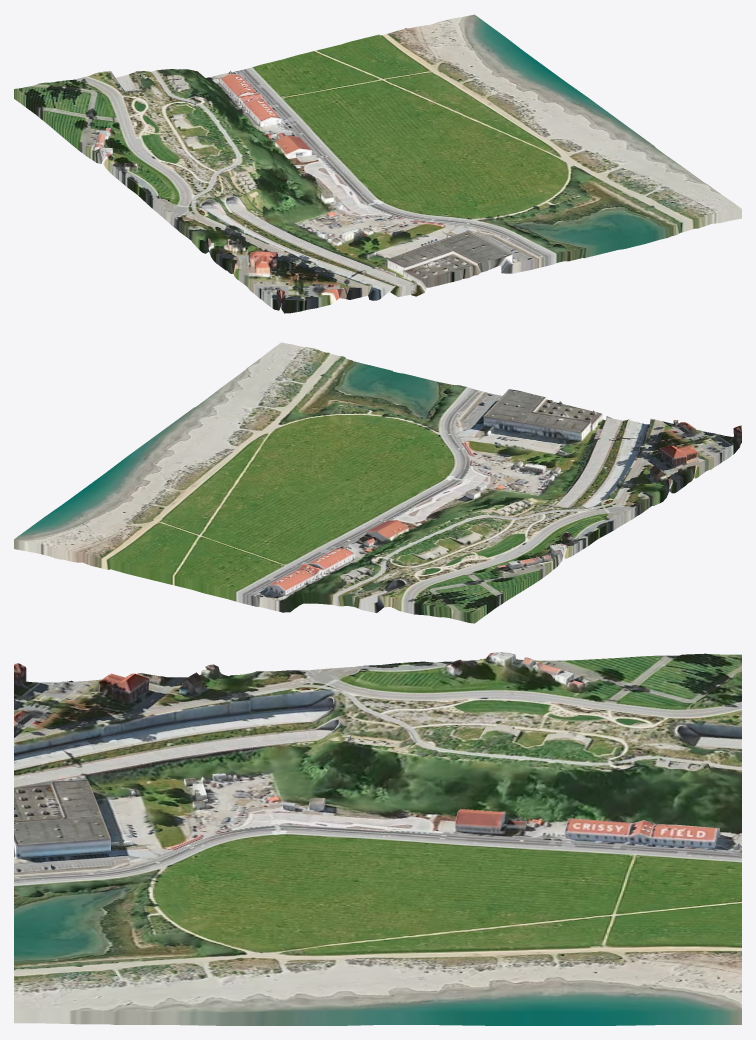
The model's file is z16-10474-25324-h0-yup-uvflip-v3-world.glb.
The picture shows the model from 3 angles, top to bottom: view 1: azimuth 30°, elevation 25°; view 2: azimuth 150°, elevation 25°; view 3: azimuth 270°, elevation 25°; orthographic projection. The views are drawn at different scales.
Bounding box in the file's own units: 483 × 49.92 × 485.
Materials: 1 (1 with a texture image).
